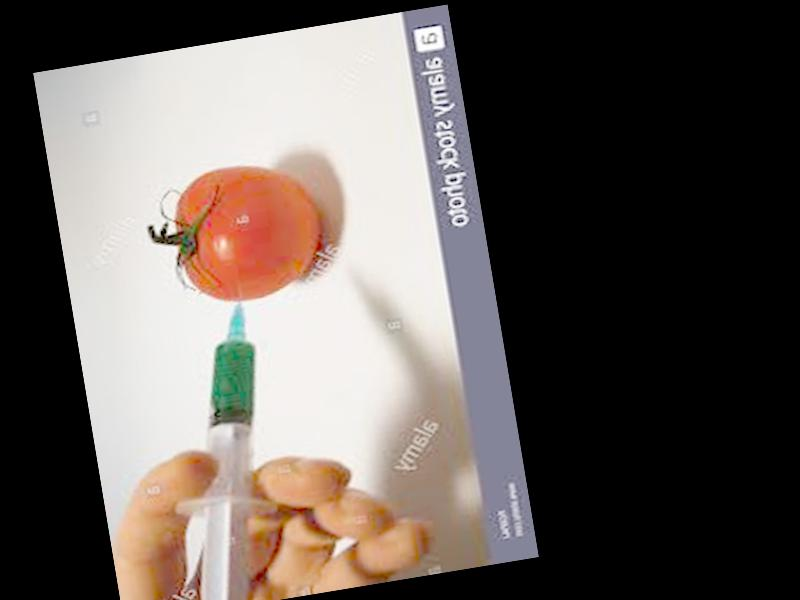Tomato: (168, 156, 329, 310)
